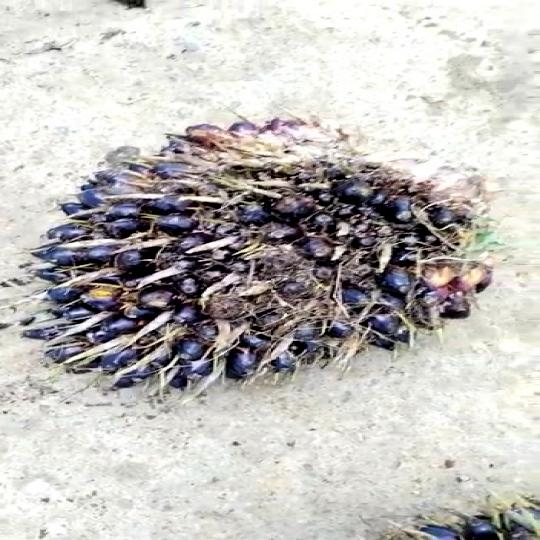mentah: (26, 107, 512, 403)
